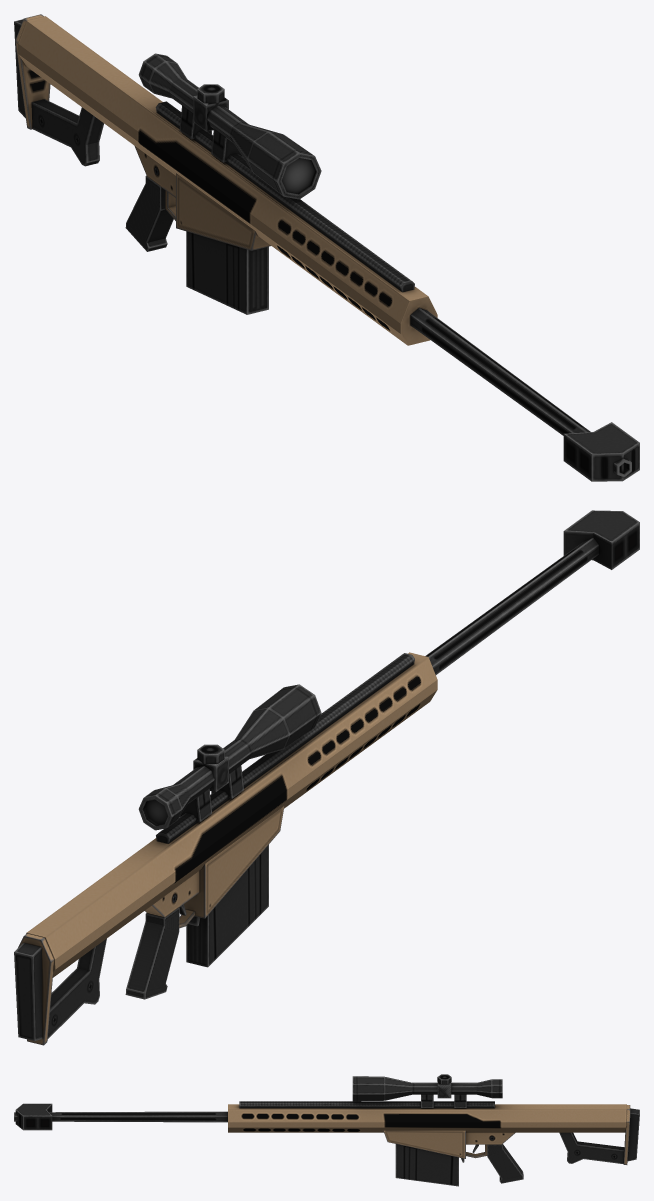
Rendered from sniper.fbx.
3 renders of one model, top to bottom at view 1: azimuth 30°, elevation 25°; view 2: azimuth 150°, elevation 25°; view 3: azimuth 270°, elevation 25°, orthographic. The views are drawn at different scales.
Visible parts, largest first — view 1: sniper; view 2: sniper; view 3: sniper.
Part boxes in pixels (x1,y1,x2,y2): sniper: (14,14,639,481); sniper: (14,510,639,1045); sniper: (14,1074,639,1186).
Size of the model in its own units: 4.36 by 17.84 by 94.53.
Materials: 1 (1 with a texture image).
